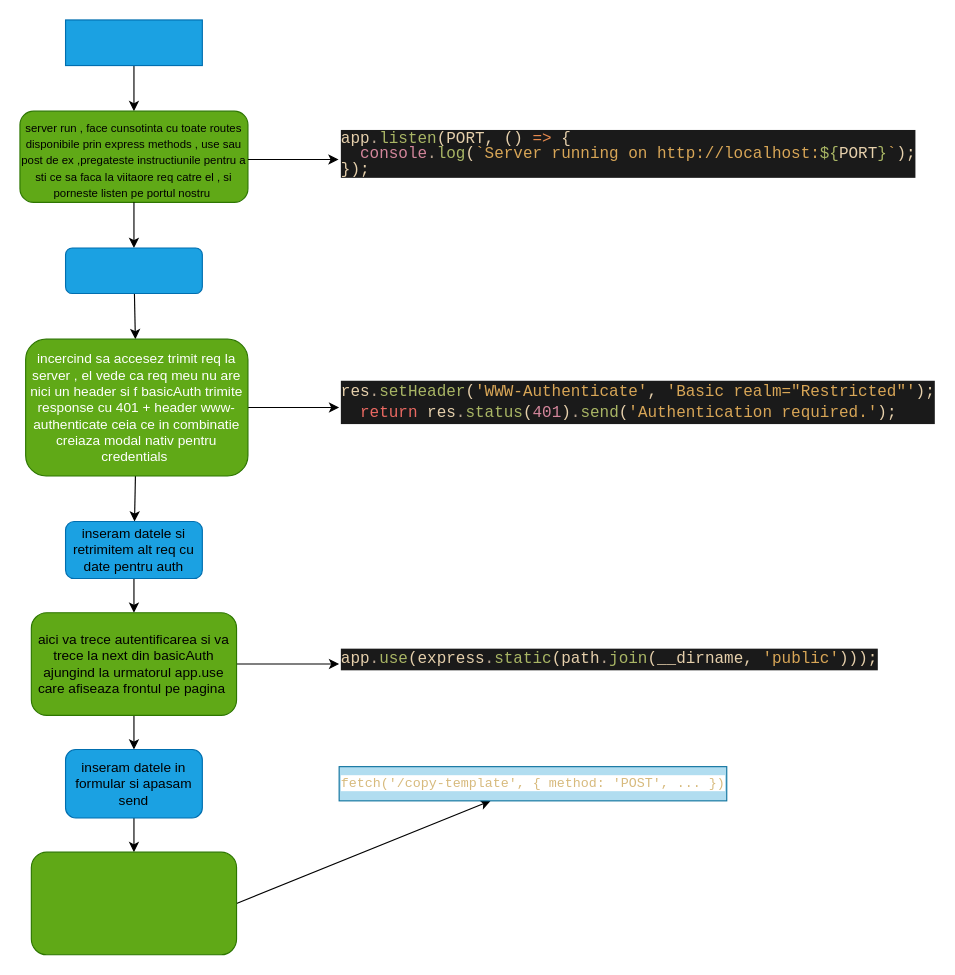
Some shapes in this 955 by 975 pixel diagram are drawn without their labels. Each missing label, with the box of its shape:
handleSubmit: (30, 851, 237, 955)
localhost:PORT: (64, 247, 202, 294)
npm start: (64, 19, 202, 66)
